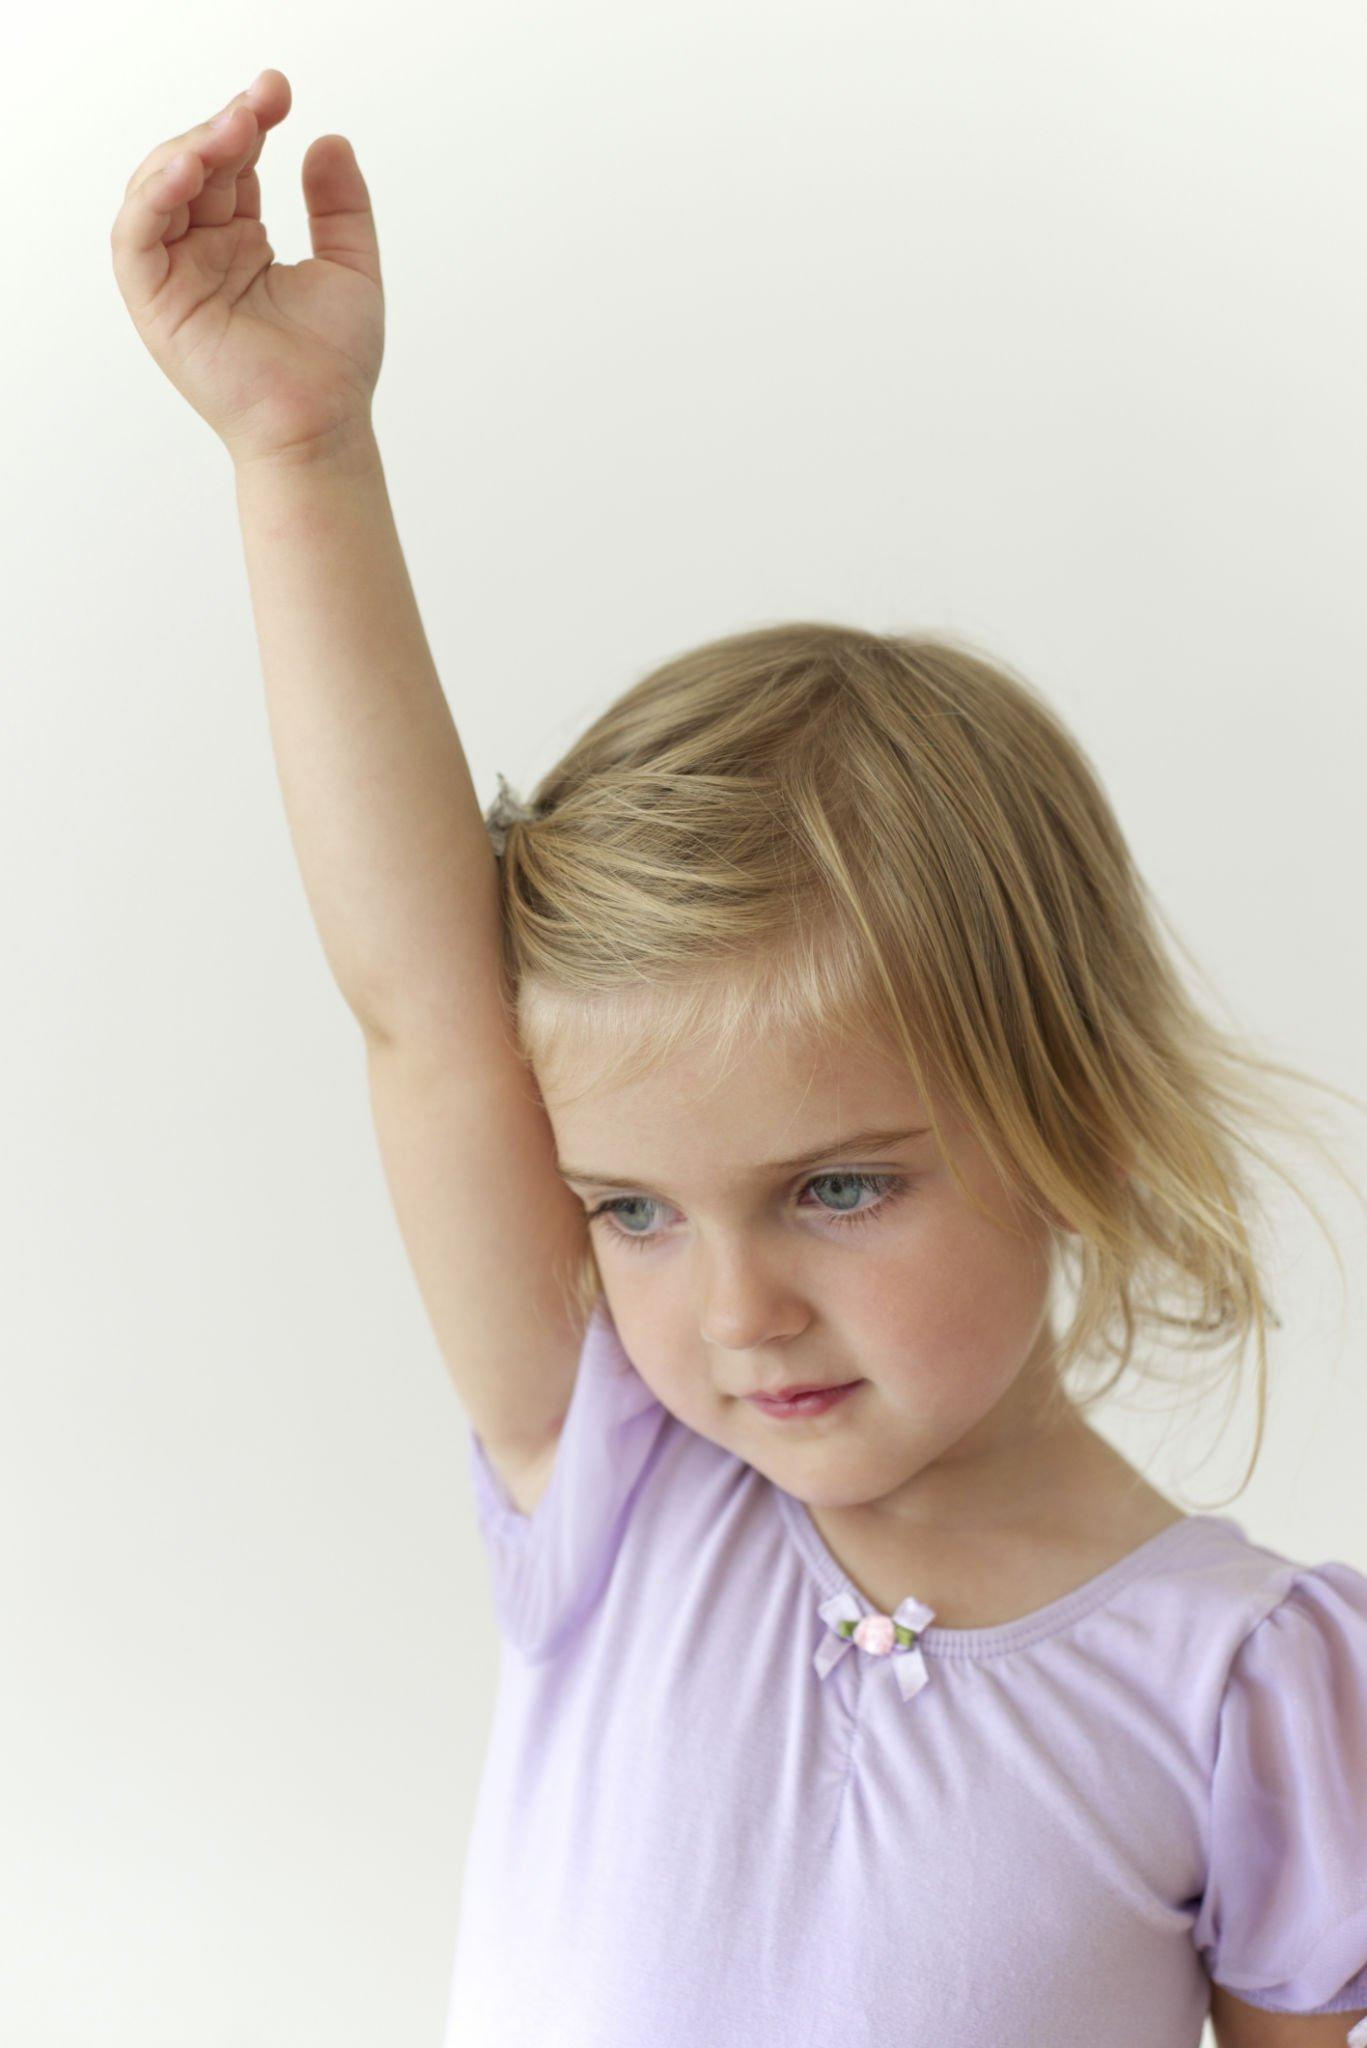Healthy: (561, 862, 1022, 1496)
